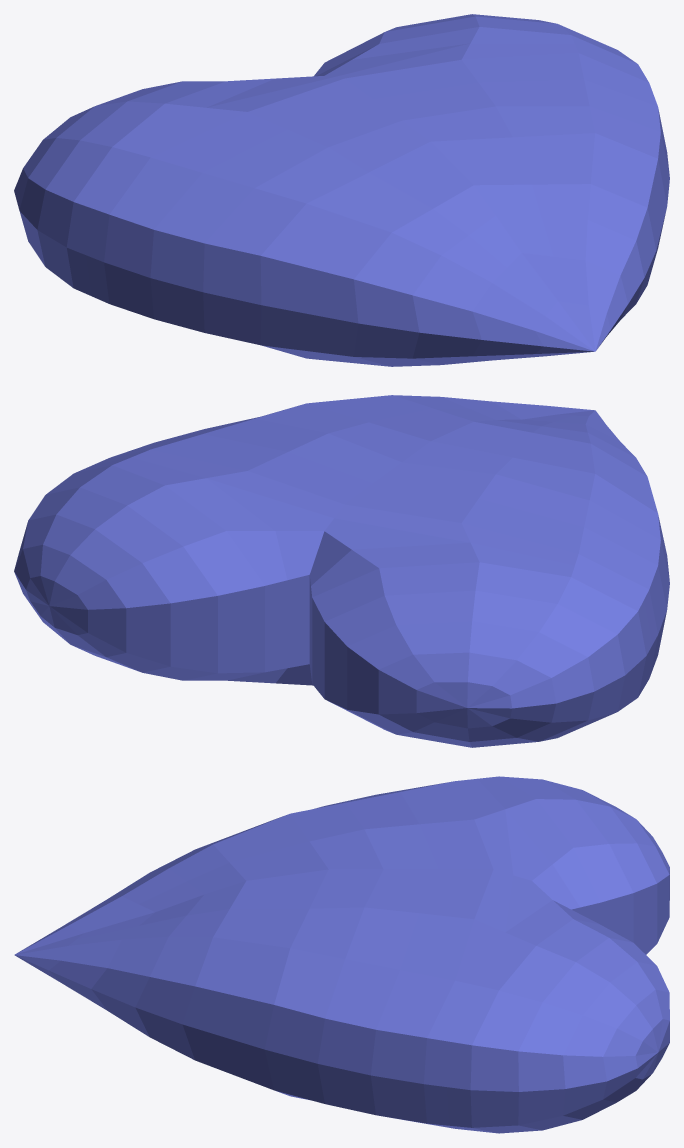
File: SM_heart.FBX
3 renders of one model, top to bottom at view 1: azimuth 30°, elevation 25°; view 2: azimuth 150°, elevation 25°; view 3: azimuth 270°, elevation 25°, orthographic. The views are drawn at different scales.
Visible parts, largest first — view 1: SM_heart; view 2: SM_heart; view 3: SM_heart.
Part boxes in pixels (bbox=[...]): SM_heart: bbox=[14, 14, 669, 366]; SM_heart: bbox=[14, 395, 669, 747]; SM_heart: bbox=[14, 776, 669, 1133].
Size of the model in its own units: 214 by 63.05 by 216.
